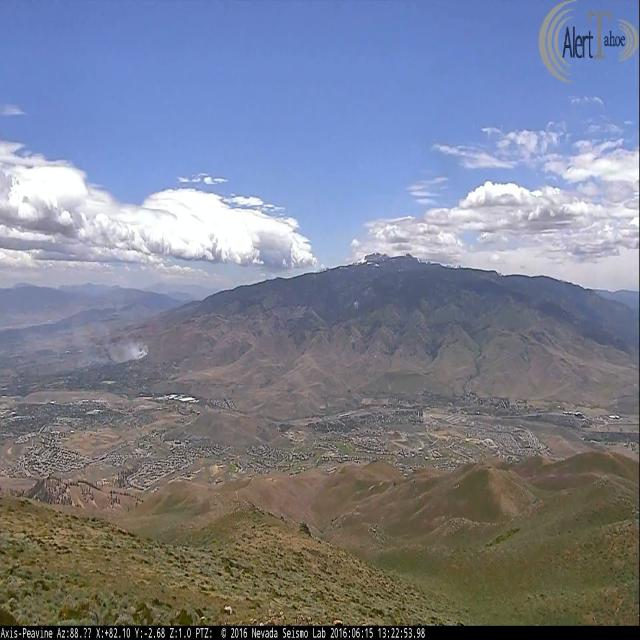smoke: (114, 338, 148, 358)
